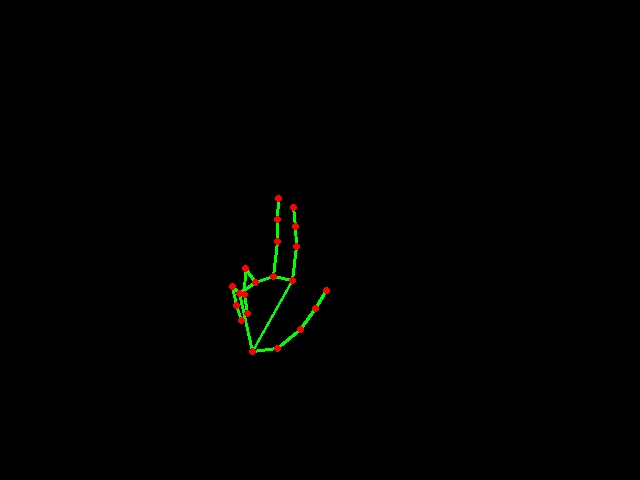forward: (218, 186, 340, 364)
